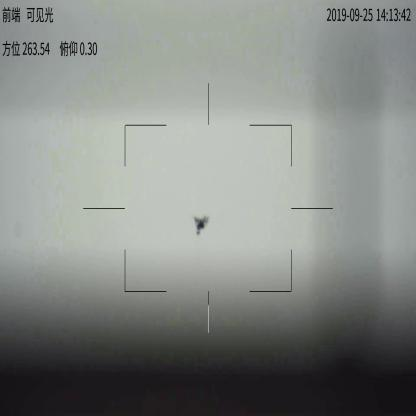uav: (191, 212, 210, 236)
